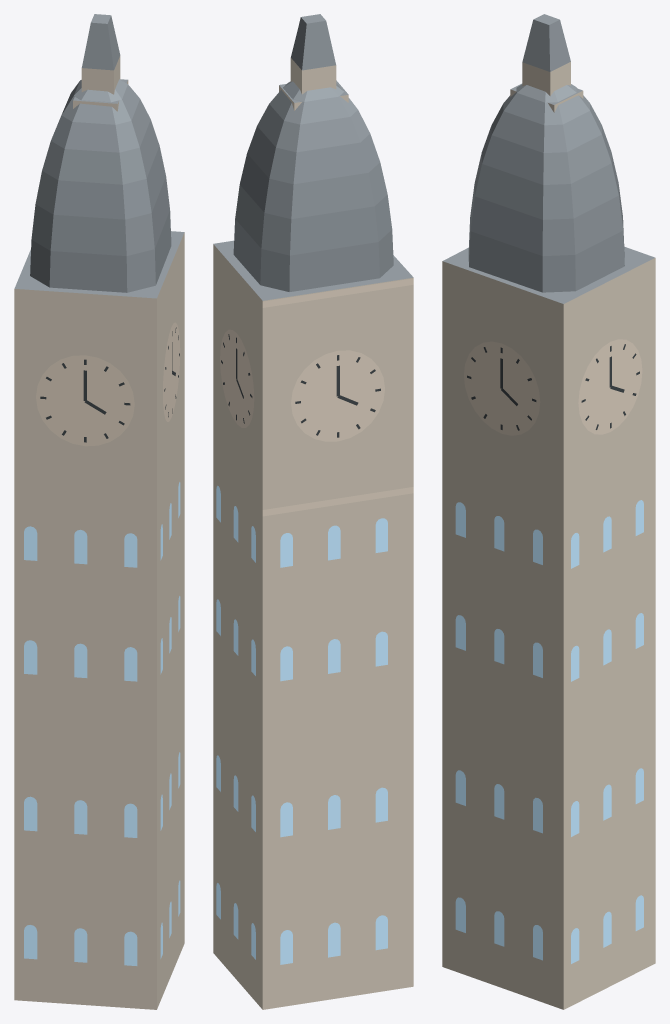
File: detail.glb
The picture shows the model from 3 angles, left to right: view 1: azimuth 30°, elevation 25°; view 2: azimuth 150°, elevation 25°; view 3: azimuth 270°, elevation 25°; orthographic projection.
Visible parts, largest first — view 1: stone, roof, trim, window, recess; view 2: stone, roof, trim, window, recess; view 3: stone, roof, trim, window, recess.
Boxes of the visible parts, x1,y1,x2,y2 form: stone: (14, 56, 184, 1009); roof: (14, 14, 184, 298); trim: (36, 322, 180, 446); window: (24, 482, 180, 965); recess: (40, 327, 179, 442); stone: (213, 58, 413, 1009); roof: (213, 14, 413, 300); trim: (220, 278, 413, 516); window: (216, 485, 387, 964); recess: (221, 334, 380, 437); stone: (442, 61, 655, 1009); roof: (443, 14, 654, 303); trim: (464, 339, 642, 435); window: (455, 500, 643, 963); recess: (467, 344, 639, 430).
Size of the model in its own units: 13.66 by 67 by 13.68.
